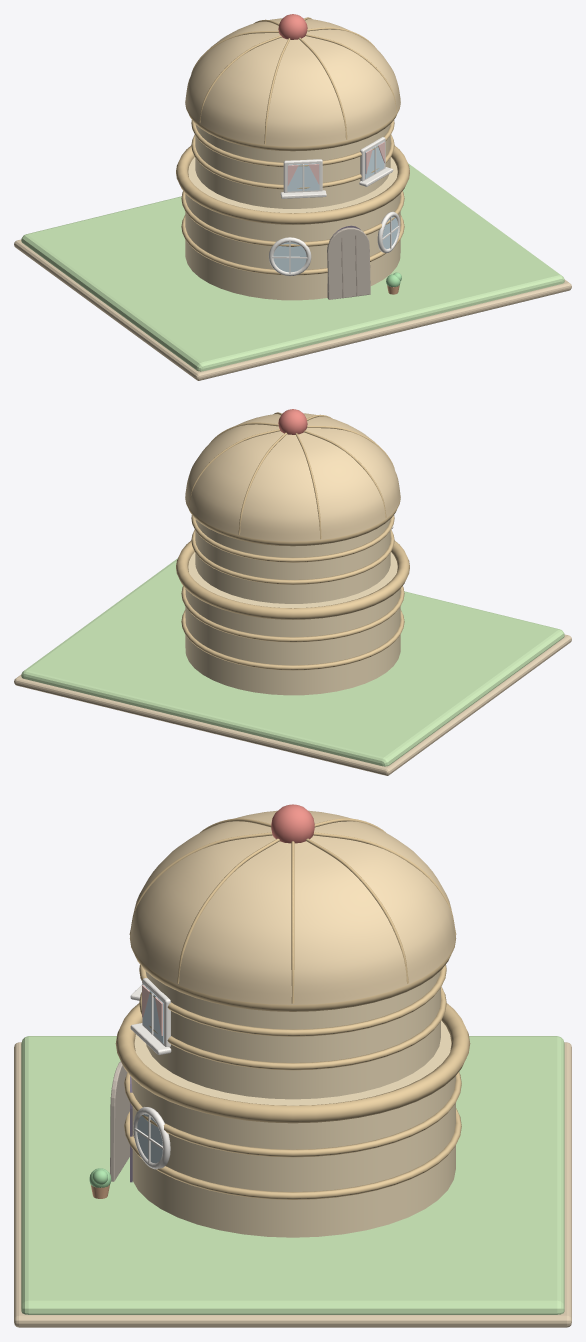
The model's file is building_dumpling_L05.glb.
3 views of the same model, one above another, from view 1: azimuth 30°, elevation 25°; view 2: azimuth 150°, elevation 25°; view 3: azimuth 270°, elevation 25° (orthographic). The views are drawn at different scales.
Visible parts, largest first — view 1: dumpling_L5; view 2: dumpling_L5; view 3: dumpling_L5.
Part boxes in pixels (left/top/right/bottom): dumpling_L5: left=14, top=14, right=571, bottom=380; dumpling_L5: left=14, top=409, right=571, bottom=775; dumpling_L5: left=14, top=804, right=571, bottom=1327.
Size of the model in its own units: 26.61 by 17.17 by 22.6.
